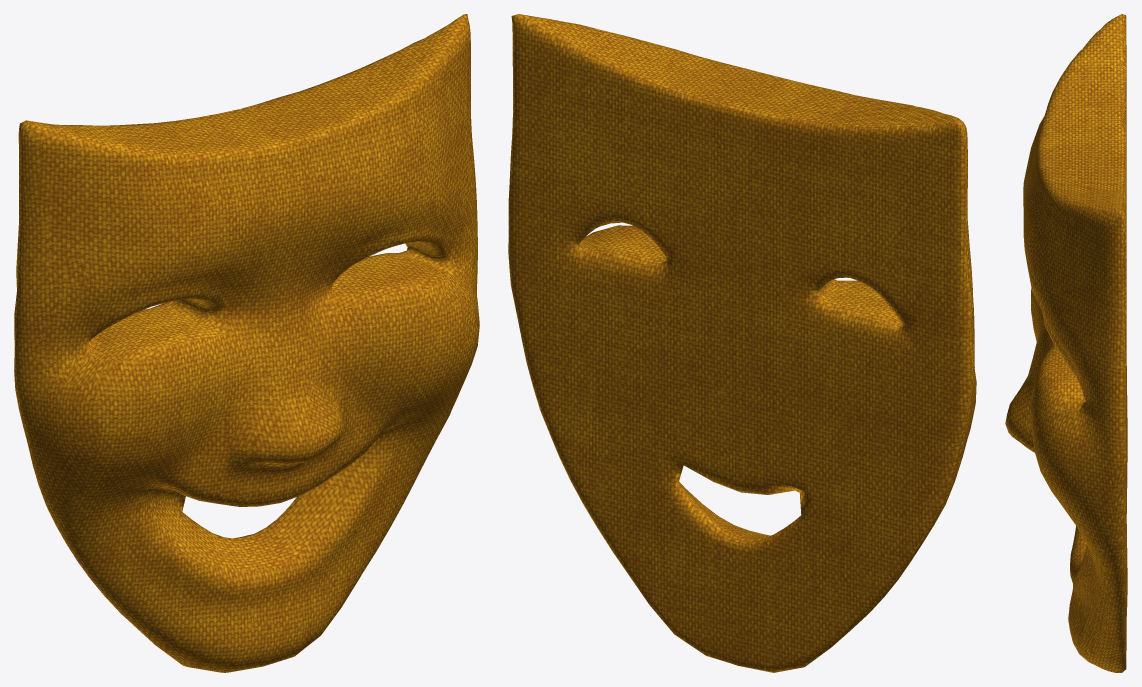
File: Comedy1.fbx
3 renders of one model, left to right at view 1: azimuth 30°, elevation 25°; view 2: azimuth 150°, elevation 25°; view 3: azimuth 270°, elevation 25°, orthographic. The views are drawn at different scales.
Visible parts, largest first — view 1: Retopo_Comedy.003; view 2: Retopo_Comedy.003; view 3: Retopo_Comedy.003.
Boxes of the visible parts, x1,y1,x2,y2 form: Retopo_Comedy.003: [14, 14, 479, 672]; Retopo_Comedy.003: [508, 14, 976, 672]; Retopo_Comedy.003: [1005, 14, 1127, 672].
Size of the model in its own units: 68.64 by 84.73 by 17.18.
1 material, 1 textured.
